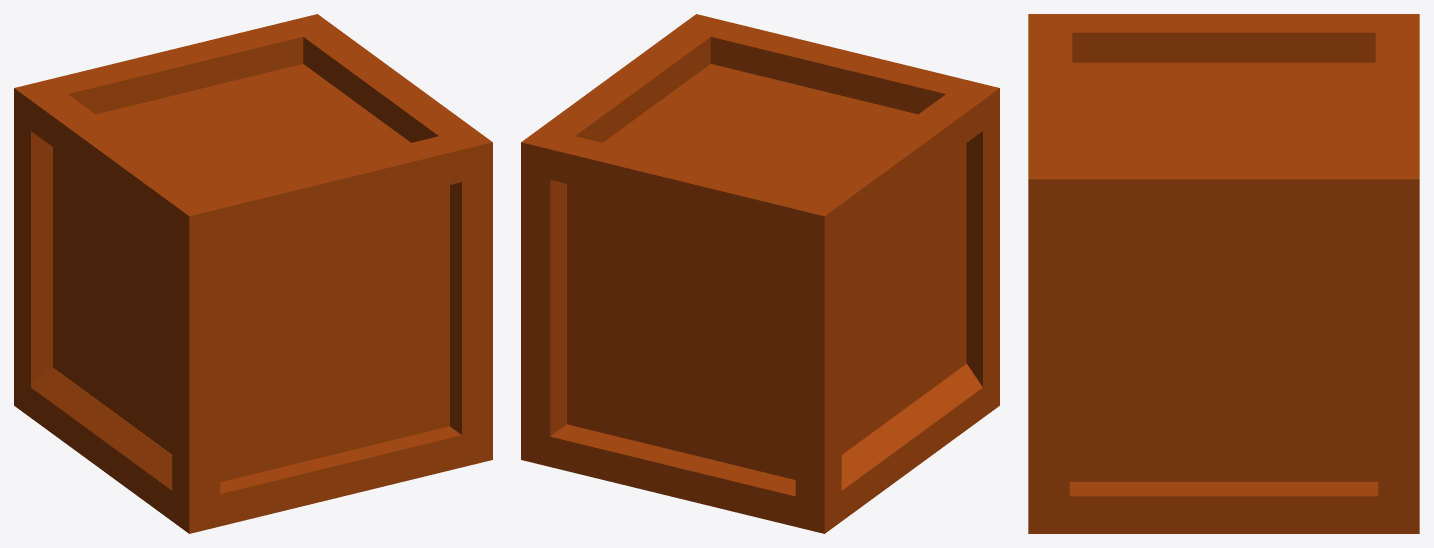
The model's file is CajaNormal.fbx.
3 renders of one model, left to right at view 1: azimuth 30°, elevation 25°; view 2: azimuth 150°, elevation 25°; view 3: azimuth 270°, elevation 25°, orthographic. The views are drawn at different scales.
Parts seen in each view (by area): view 1: Cube; view 2: Cube; view 3: Cube.
Part boxes in pixels (x1,y1,x2,y2): Cube: [14, 14, 492, 533]; Cube: [521, 14, 999, 533]; Cube: [1028, 14, 1419, 533].
Size of the model in its own units: 200 by 200 by 200.
